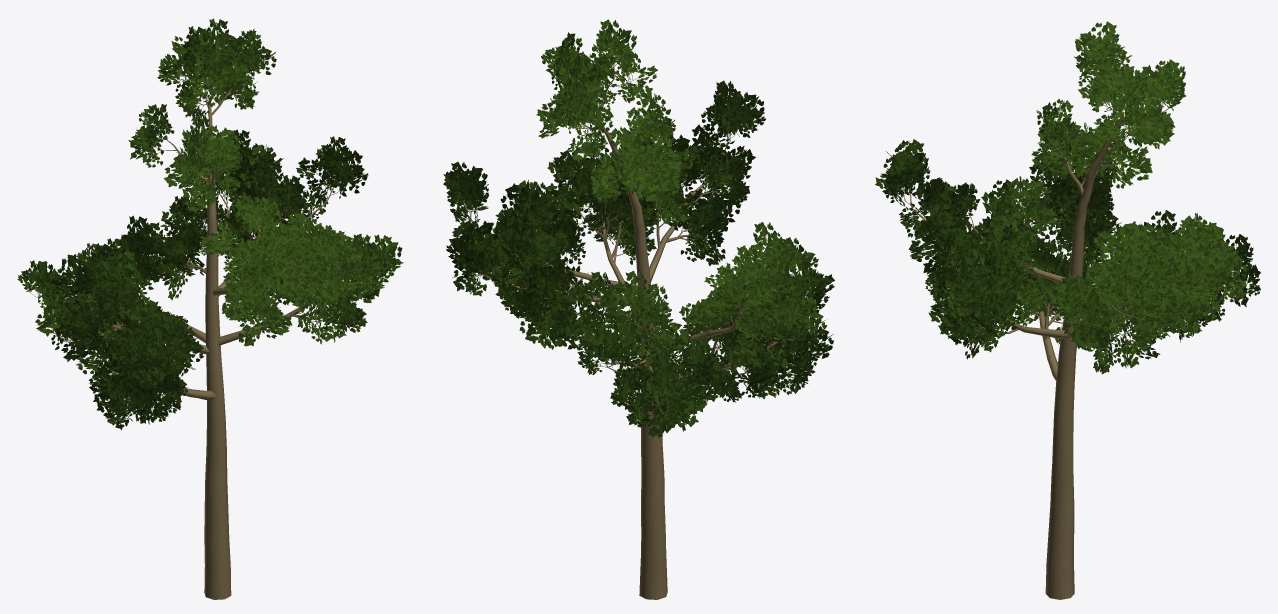
Rendered from canopy.glb.
3 renders of one model, left to right at view 1: azimuth 30°, elevation 25°; view 2: azimuth 150°, elevation 25°; view 3: azimuth 270°, elevation 25°, orthographic. The views are drawn at different scales.
Visible parts, largest first — view 1: eztree-canopy; view 2: eztree-canopy; view 3: eztree-canopy.
Boxes of the visible parts, x1,y1,x2,y2 form: eztree-canopy: (17, 18, 403, 599); eztree-canopy: (443, 19, 834, 599); eztree-canopy: (875, 21, 1260, 599).
Bounding box in the file's own units: 19.74 × 30 × 18.4.
Materials: 2 (2 with a texture image).
